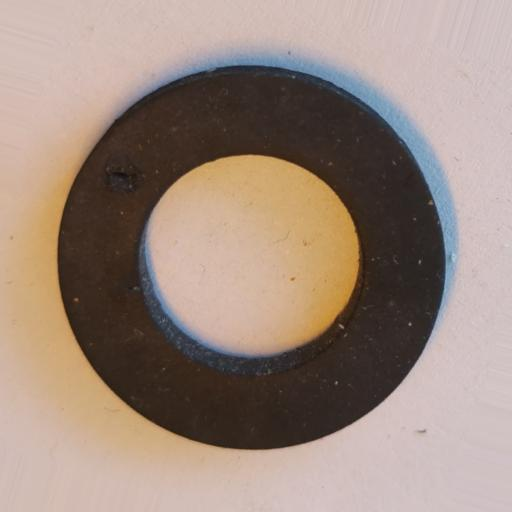defect: (104, 160, 146, 194)
